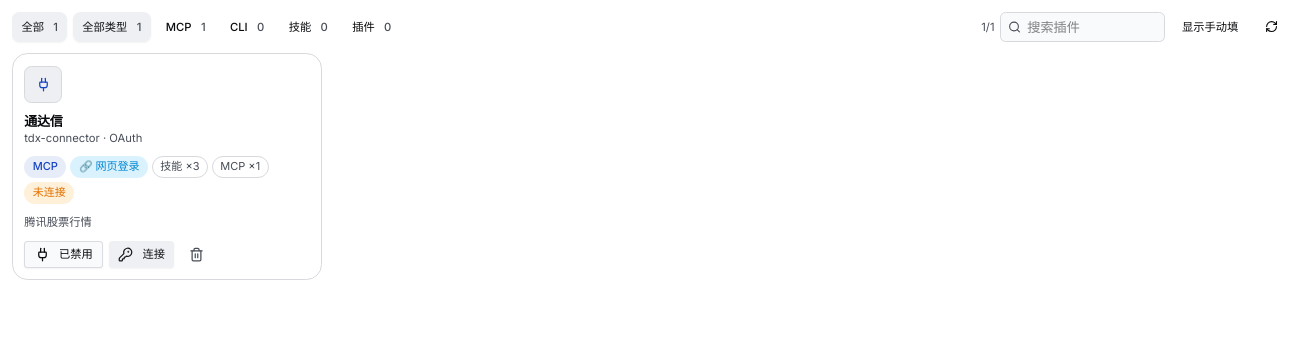
Test case: CapabilityMarketPanel › explains desktop-only OAuth callbacks instead of timing out on web
Expected: the text "通达信" is shown, [24, 113, 63, 129]
Click the button "连接" at [142, 254], box [109, 241, 174, 268]
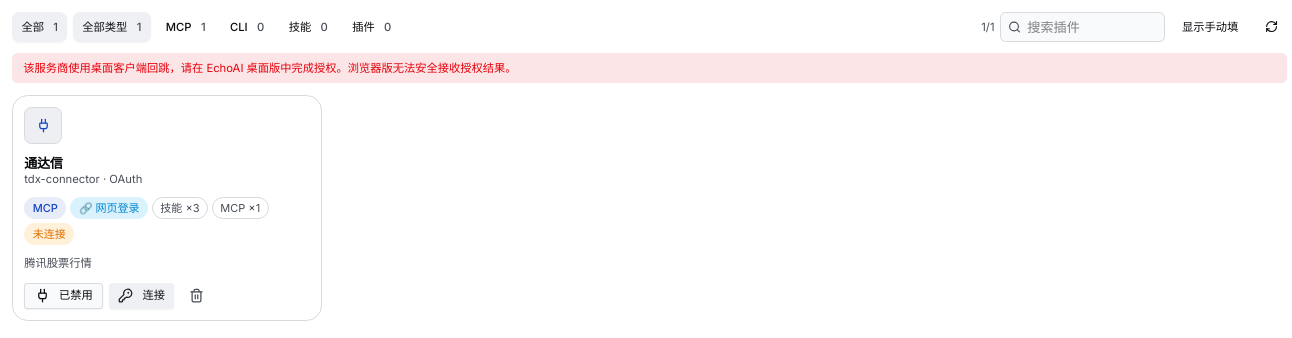
Expected: the text "该服务商使用桌面客户端回跳，请在 EchoAI 桌面版中完成授权。浏览器版无法安全接收授权结果。" is shown, [12, 53, 1287, 83]
